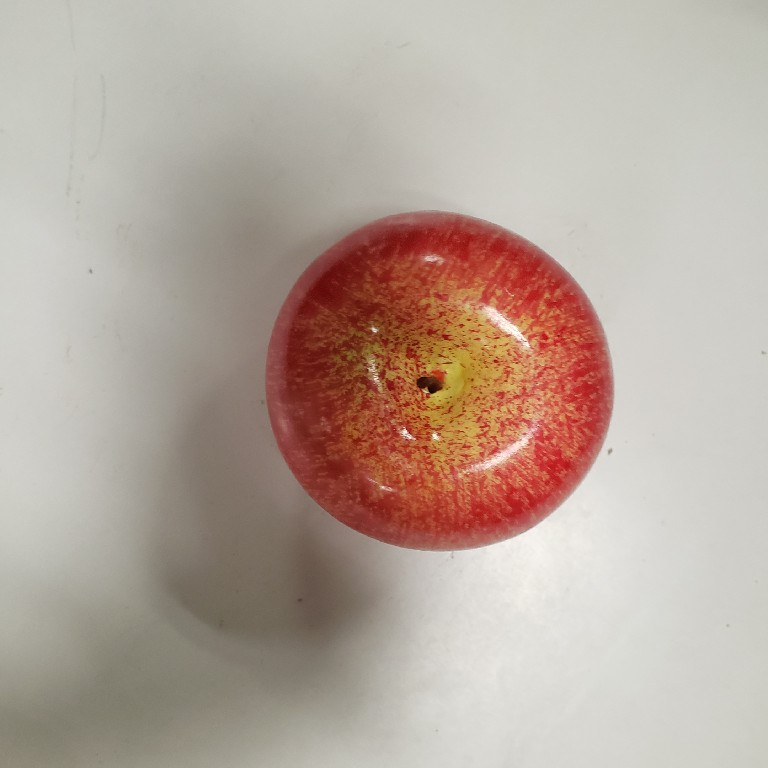fruit_apple: (257, 202, 620, 558)
